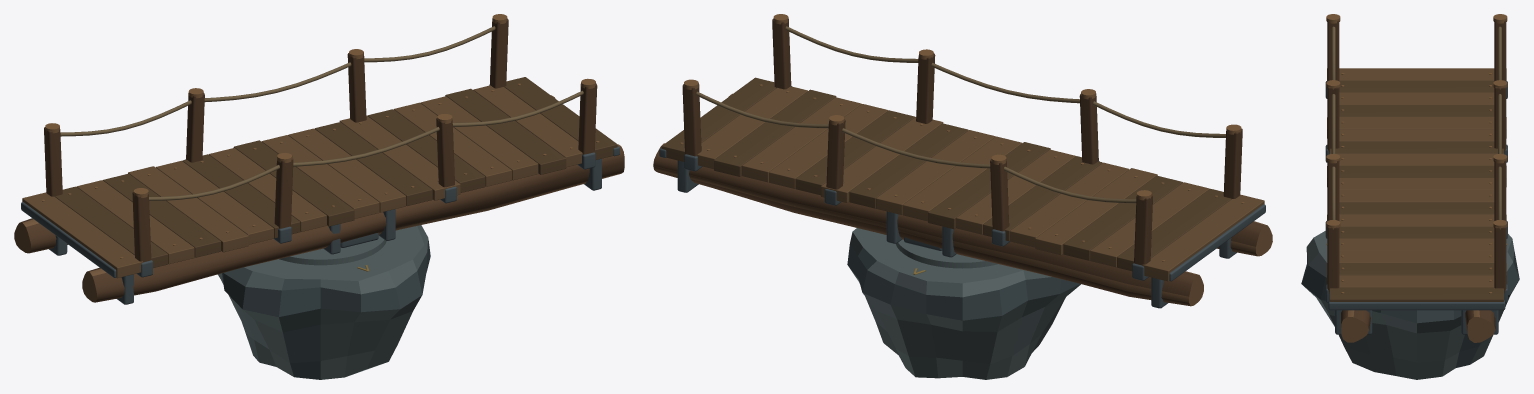
File: suspended_trunks_bridge.glb
The picture shows the model from 3 angles, left to right: view 1: azimuth 30°, elevation 25°; view 2: azimuth 150°, elevation 25°; view 3: azimuth 270°, elevation 25°; orthographic projection. The views are drawn at different scales.
Visible parts, largest first — view 1: Central layered islet, Fallen oak trunk south, Tread 01, Tread 17, Tread 05, Tread 11, Tread 12, Tread 06, Tread 10, Tread 16, Tread 18, Tread 09 (+26 smaller); view 2: Central layered islet, Fallen oak trunk north, Tread 01, Tread 17, Tread 05, Tread 12, Tread 11, Tread 06, Tread 10, Tread 16, Tread 18, Tread 09 (+26 smaller); view 3: Central layered islet, Tread 19, Tread 07, Tread 05, Tread 09, Tread 17, Tread 01, Tread 13, Tread 03, Tread 06, Tread 11, Tread 12 (+27 smaller).
Part boxes in pixels (left/top/right/bottom): Central layered islet: left=218, top=225, right=430, bottom=379; Fallen oak trunk south: left=82, top=144, right=624, bottom=302; Tread 01: left=22, top=192, right=142, bottom=278; Tread 17: left=445, top=88, right=566, bottom=174; Tread 05: left=128, top=166, right=248, bottom=252; Tread 11: left=288, top=128, right=406, bottom=212; Tread 12: left=314, top=122, right=432, bottom=205; Tread 06: left=156, top=160, right=273, bottom=244; Tread 10: left=261, top=135, right=379, bottom=218; Tread 16: left=420, top=96, right=538, bottom=180; Tread 18: left=473, top=85, right=582, bottom=167; Tread 09: left=233, top=140, right=354, bottom=226; Central layered islet: left=847, top=228, right=1080, bottom=379; Fallen oak trunk north: left=653, top=143, right=1203, bottom=306; Tread 01: left=1142, top=194, right=1264, bottom=281; Tread 17: left=714, top=89, right=836, bottom=176; Tread 05: left=1035, top=168, right=1157, bottom=255; Tread 12: left=849, top=123, right=968, bottom=208; Tread 11: left=876, top=130, right=995, bottom=214; Tread 06: left=1010, top=162, right=1129, bottom=247; Tread 10: left=902, top=136, right=1022, bottom=221; Tread 16: left=742, top=97, right=861, bottom=182; Tread 18: left=697, top=86, right=807, bottom=169; Tread 09: left=928, top=142, right=1050, bottom=229; Central layered islet: left=1301, top=231, right=1519, bottom=379; Tread 19: left=1329, top=287, right=1503, bottom=301; Tread 07: left=1329, top=141, right=1503, bottom=153; Tread 05: left=1327, top=117, right=1506, bottom=138; Tread 09: left=1327, top=165, right=1506, bottom=186; Tread 17: left=1327, top=263, right=1506, bottom=283; Tread 01: left=1327, top=68, right=1506, bottom=80; Tread 13: left=1327, top=214, right=1506, bottom=235; Tread 03: left=1339, top=92, right=1494, bottom=104; Tread 06: left=1339, top=129, right=1494, bottom=141; Tread 11: left=1339, top=190, right=1494, bottom=202; Tread 12: left=1339, top=202, right=1494, bottom=214.
Size of the model in its own units: 5.39 by 2.39 by 2.04.
